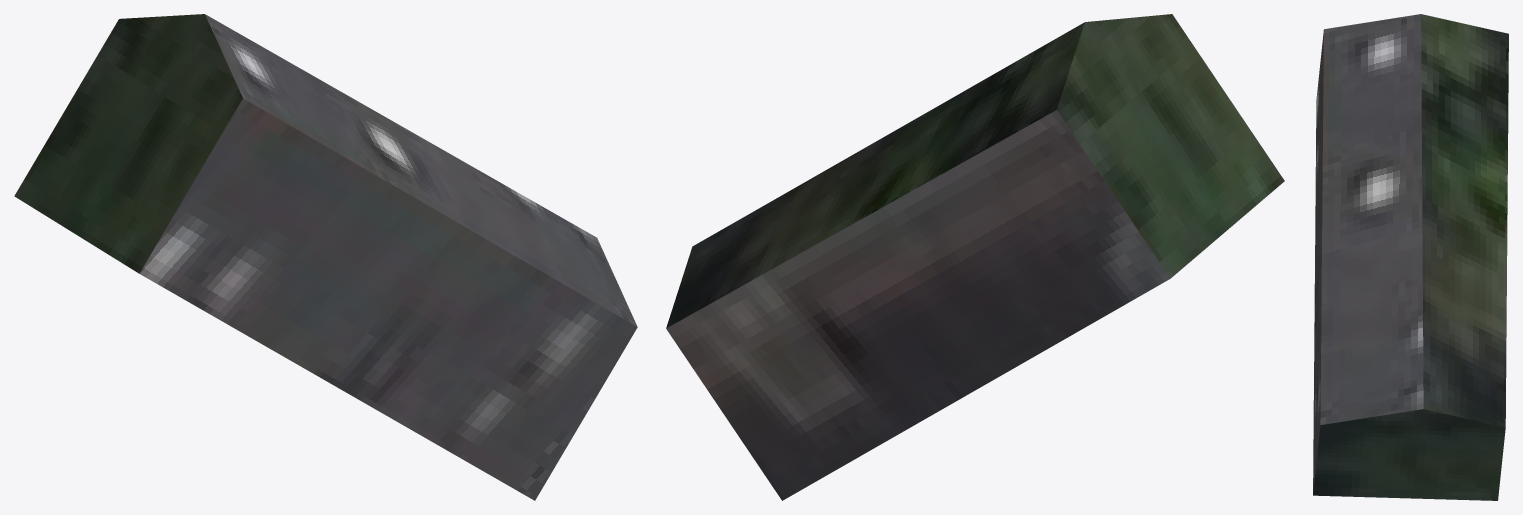
3 renders of one model, left to right at view 1: azimuth 30°, elevation 25°; view 2: azimuth 150°, elevation 25°; view 3: azimuth 270°, elevation 25°, orthographic. The views are drawn at different scales.
Visible parts, largest first — view 1: BAG_0599100010043385; view 2: BAG_0599100010043385; view 3: BAG_0599100010043385.
Boxes of the visible parts, x1,y1,x2,y2 form: BAG_0599100010043385: [14, 14, 637, 500]; BAG_0599100010043385: [666, 14, 1284, 500]; BAG_0599100010043385: [1313, 14, 1508, 500].
Size of the model in its own units: 6.58 by 6.01 by 2.73.
Materials: 2 (1 with a texture image).
